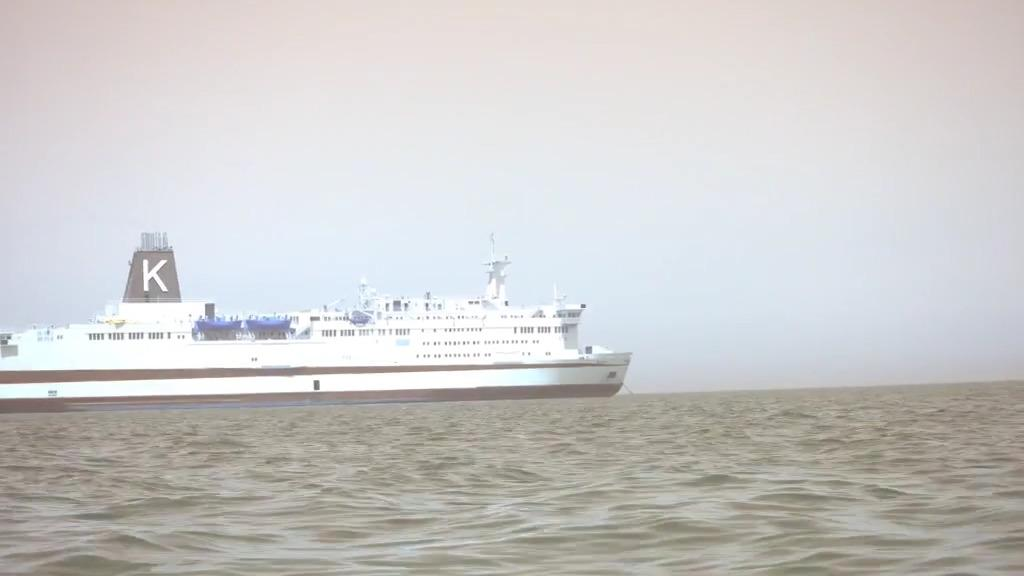PassengerShip: (0, 210, 638, 427)
